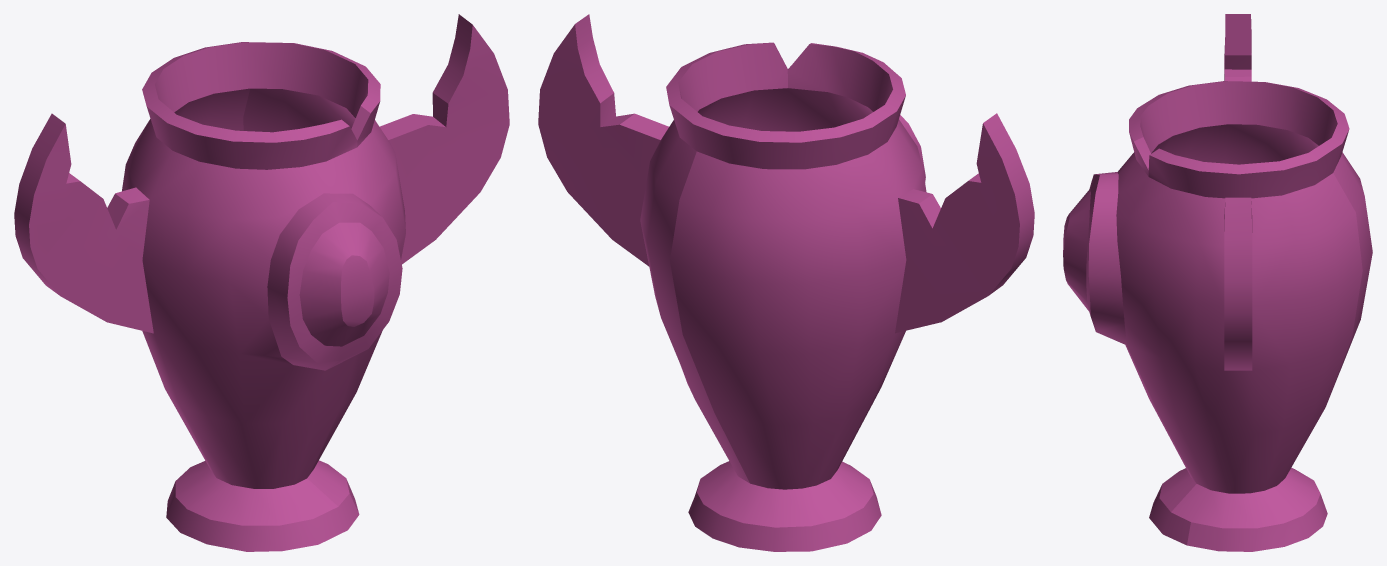
Rendered from SM_Horned_Urn.fbx.
3 renders of one model, left to right at view 1: azimuth 30°, elevation 25°; view 2: azimuth 150°, elevation 25°; view 3: azimuth 270°, elevation 25°, orthographic. The views are drawn at different scales.
Visible parts, largest first — view 1: SM_Horned_Urn; view 2: SM_Horned_Urn; view 3: SM_Horned_Urn.
Boxes of the visible parts, <box> form: SM_Horned_Urn: <box>14,14,509,551</box>; SM_Horned_Urn: <box>538,14,1034,551</box>; SM_Horned_Urn: <box>1063,14,1372,551</box>.
Size of the model in its own units: 0.5311 by 0.4673 by 0.3209.
